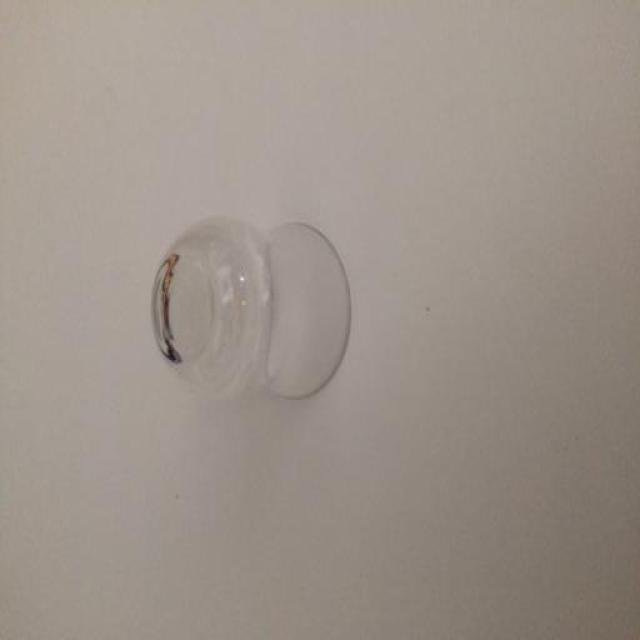Glass: (150, 213, 352, 402)
